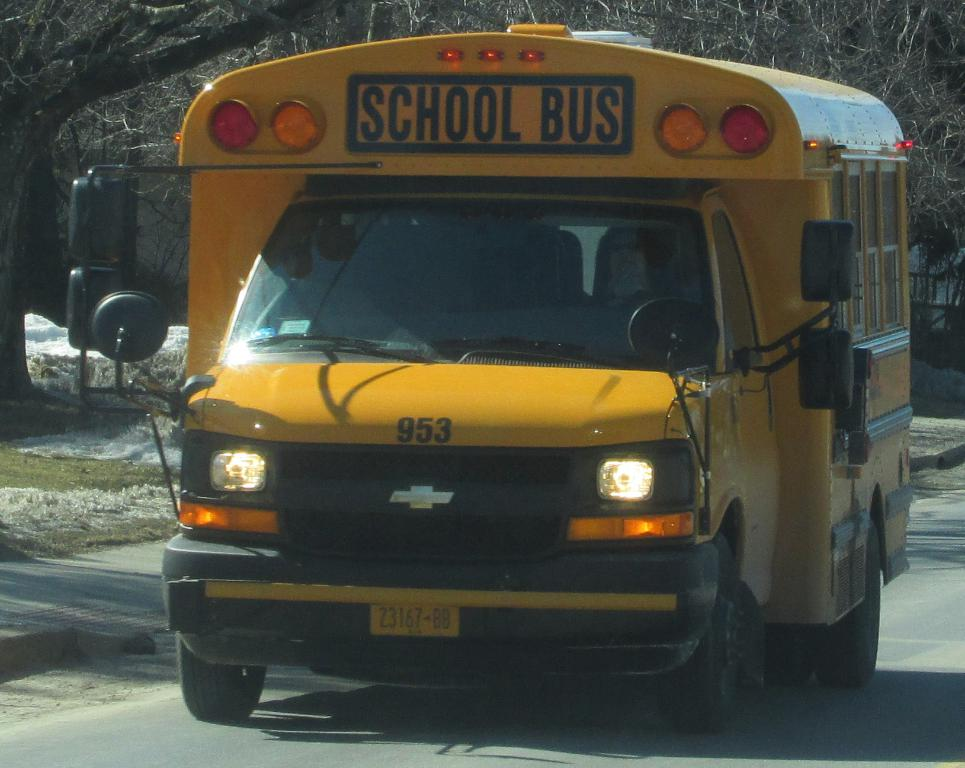Bus: (66, 24, 913, 737)
